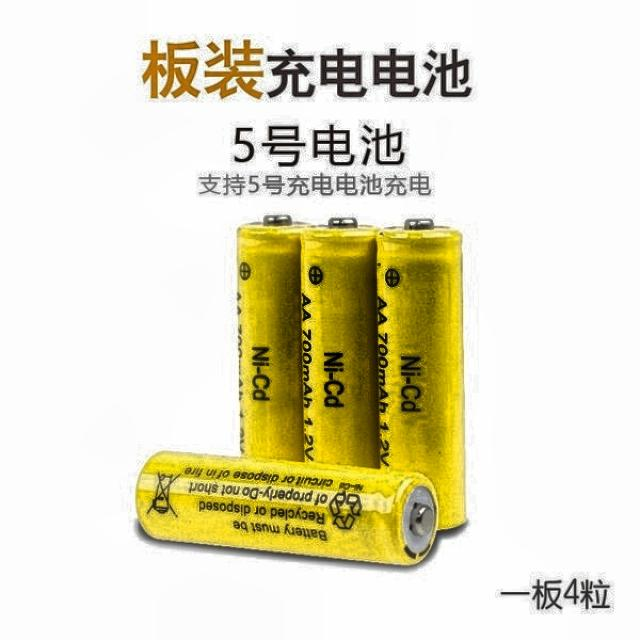Non-Valuable Waste - Batteries: (139, 451, 439, 564), (378, 220, 466, 528), (301, 220, 378, 467), (238, 216, 308, 461)
